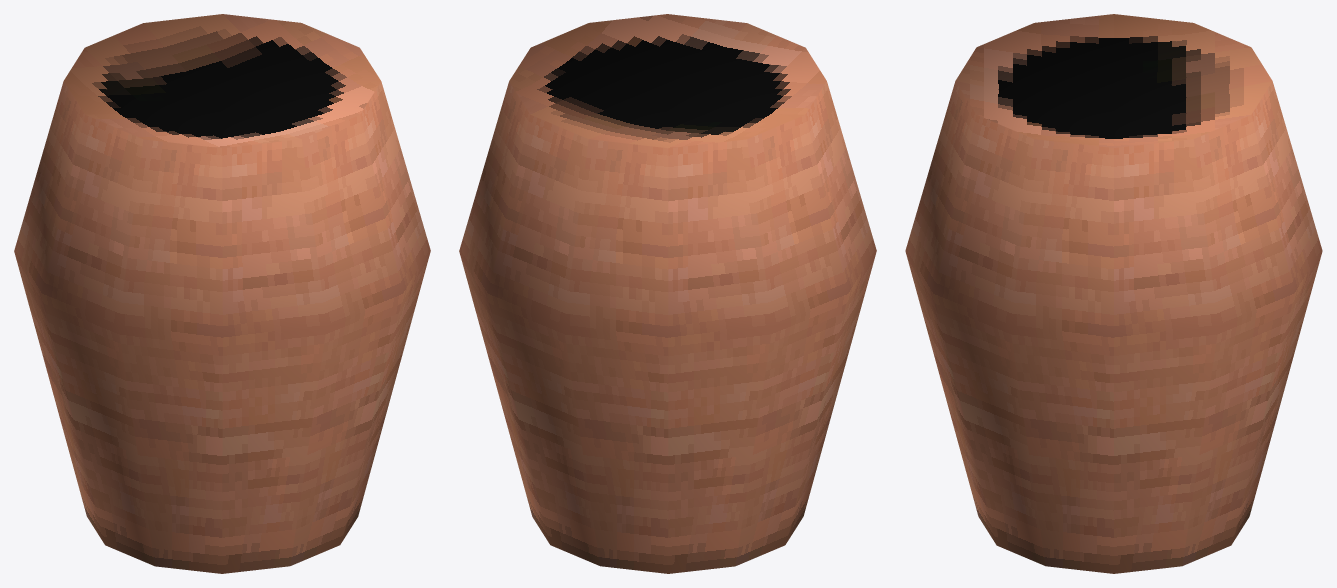
File: Pottery02.glb
The picture shows the model from 3 angles, left to right: view 1: azimuth 30°, elevation 25°; view 2: azimuth 150°, elevation 25°; view 3: azimuth 270°, elevation 25°; orthographic projection.
Visible parts, largest first — view 1: POTTERY02; view 2: POTTERY02; view 3: POTTERY02.
Boxes of the visible parts, x1,y1,x2,y2 form: POTTERY02: [14, 14, 430, 573]; POTTERY02: [459, 14, 876, 573]; POTTERY02: [905, 14, 1322, 573].
Size of the model in its own units: 0.434 by 0.5 by 0.434.
1 material, 1 textured.
